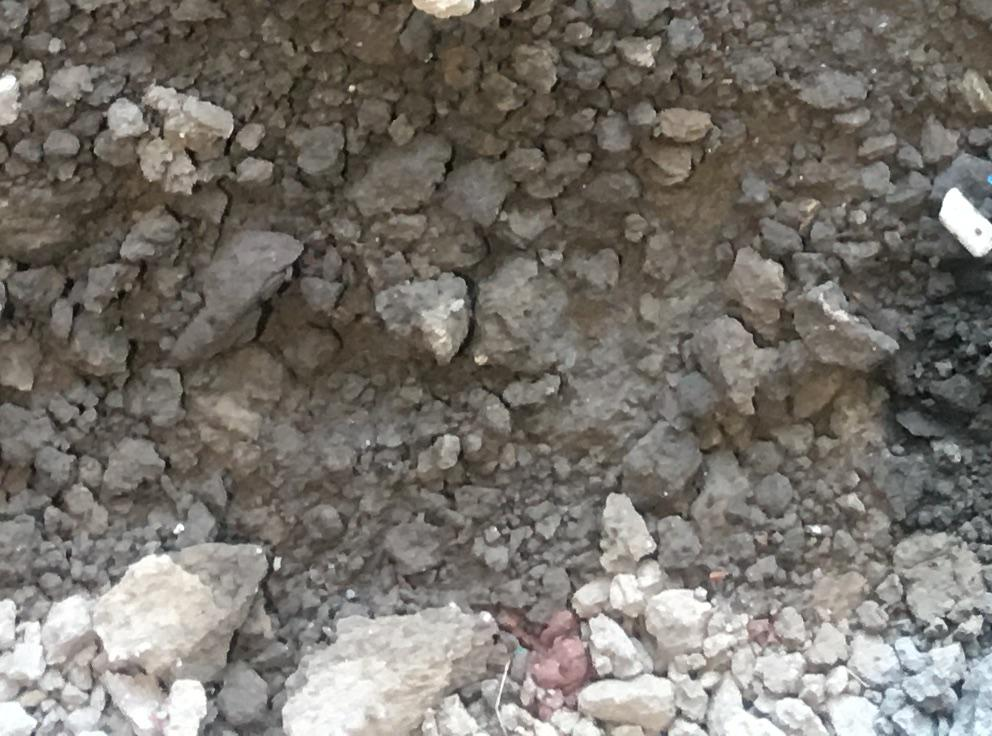block: (282, 608, 496, 736), (89, 540, 271, 688)
